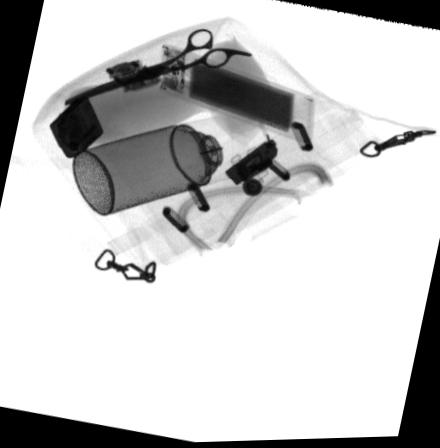Lighter: (48, 94, 104, 156)
Powerbank: (157, 42, 319, 147)
Scissors: (63, 27, 253, 107)
Sprayer: (71, 124, 221, 214)
